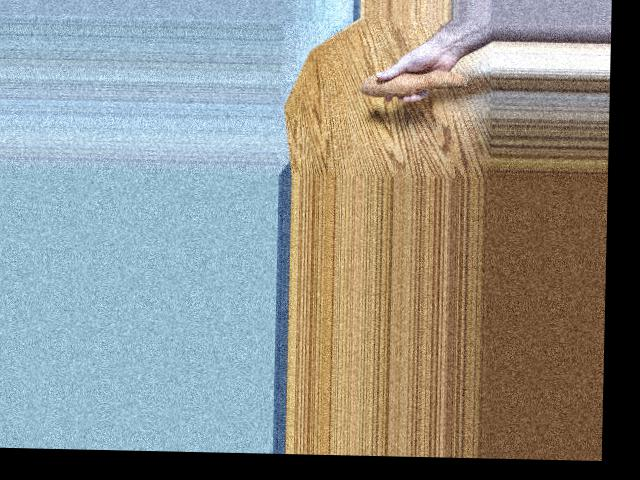sweet_potato: (353, 63, 471, 98)
